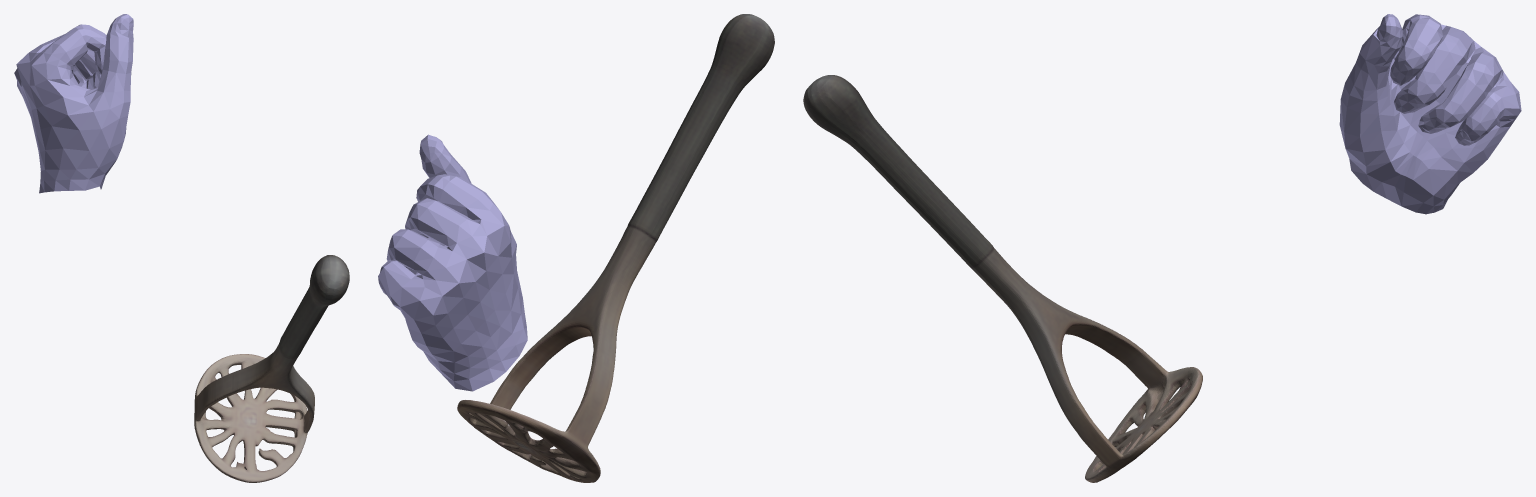
The model's file is frame_0027_source_000027_hand_object.glb.
3 renders of one model, left to right at view 1: azimuth 30°, elevation 25°; view 2: azimuth 150°, elevation 25°; view 3: azimuth 270°, elevation 25°, orthographic. The views are drawn at different scales.
Visible parts, largest first — view 1: world; view 2: world; view 3: world.
Boxes of the visible parts, x1,y1,x2,y2 form: world: (14,14,349,482); world: (378,14,774,482); world: (803,14,1521,482).
Size of the model in its own units: 0.1087 by 0.257 by 0.3704.
